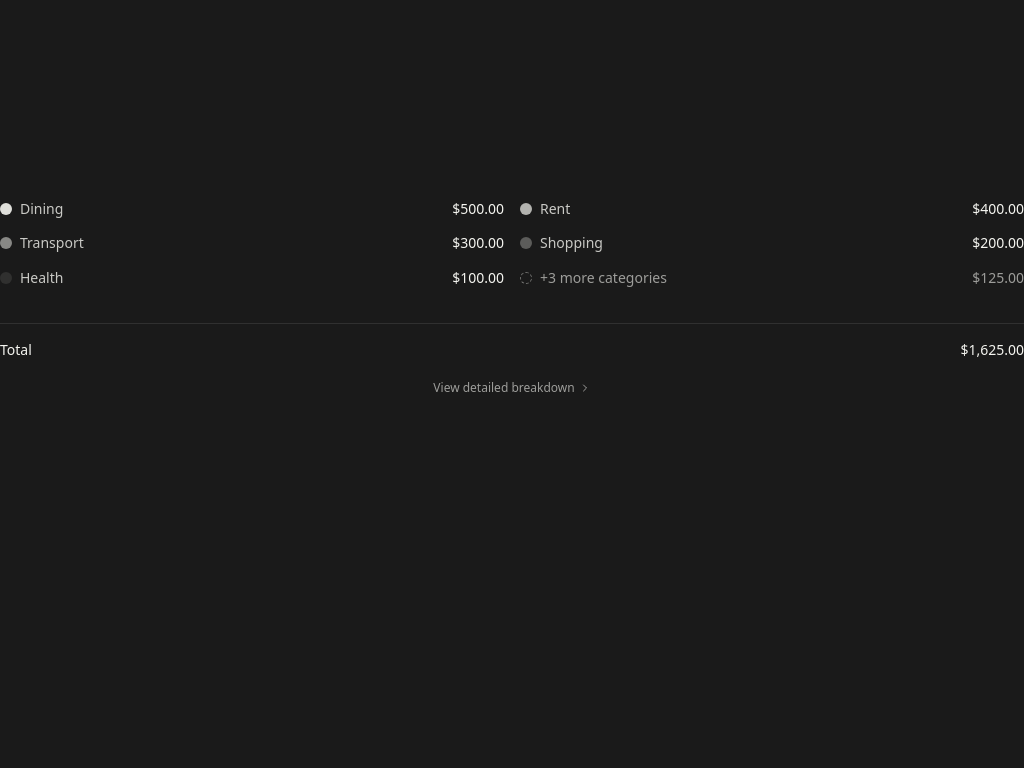
Test: CategoryBreakdown - rendered parts sum to the stated Total › states the same total in the detailed breakdown
Expected: the text "Total" is shown, top-left (0, 340), bottom-right (32, 360)
Click the button "View detailed breakdown". click: (512, 388)
box: top-left (0, 376), bottom-right (1023, 400)
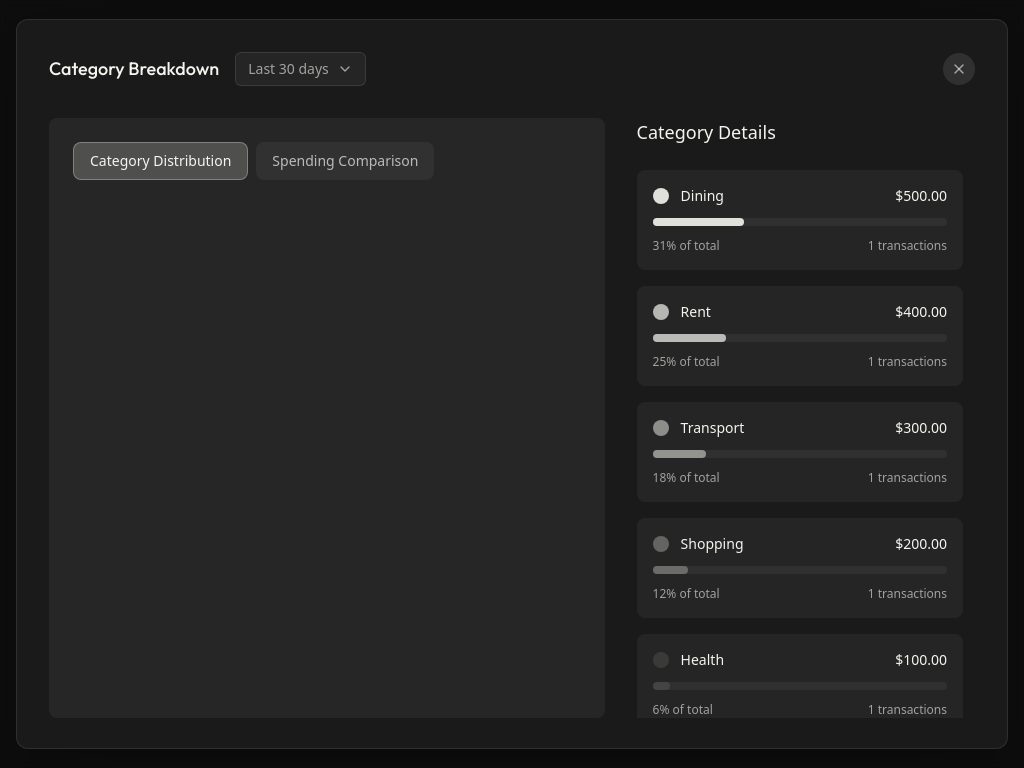
Expected: the heading "Category Details" is shown, top-left (637, 120), bottom-right (776, 144)
